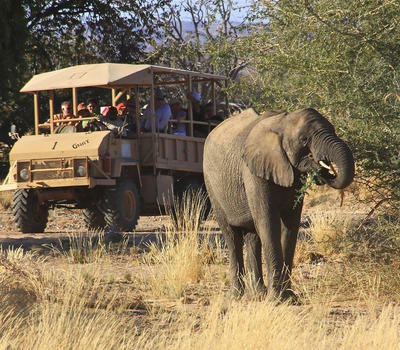elephant: (199, 107, 355, 303)
